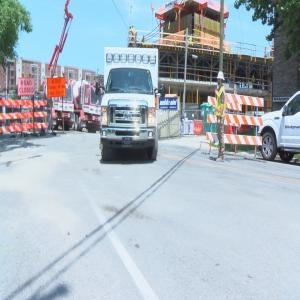white: (218, 72, 225, 89)
